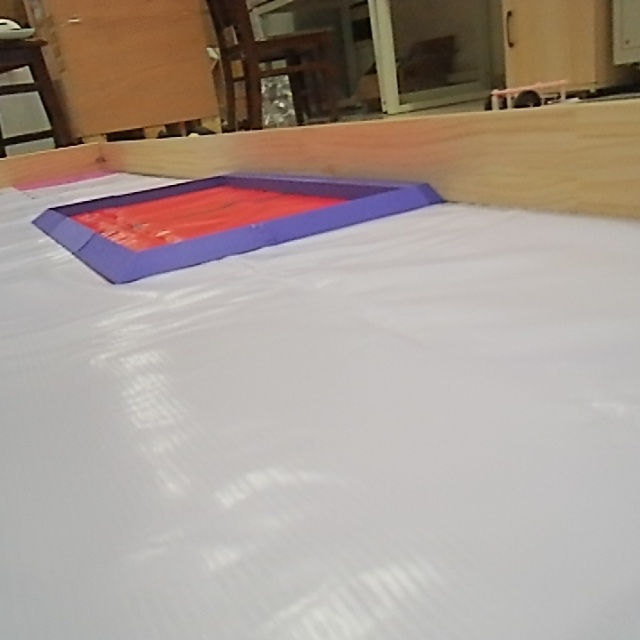zone1: (23, 168, 455, 285)
